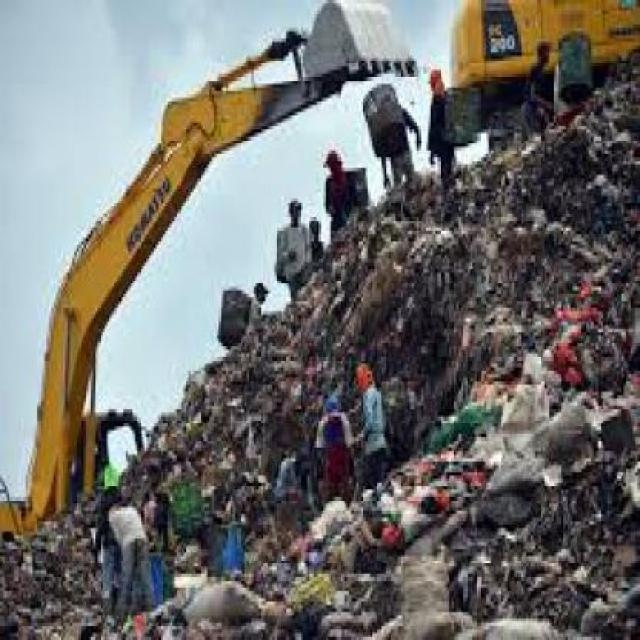garbage: (491, 140, 636, 637), (376, 186, 490, 637), (136, 294, 322, 542), (0, 520, 337, 636), (319, 228, 396, 637)
